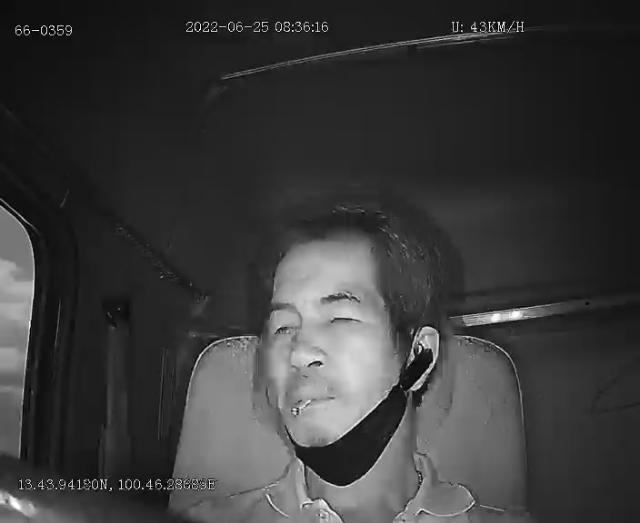SafeDriving: (268, 310, 304, 344)
Smoking: (290, 398, 312, 418)
